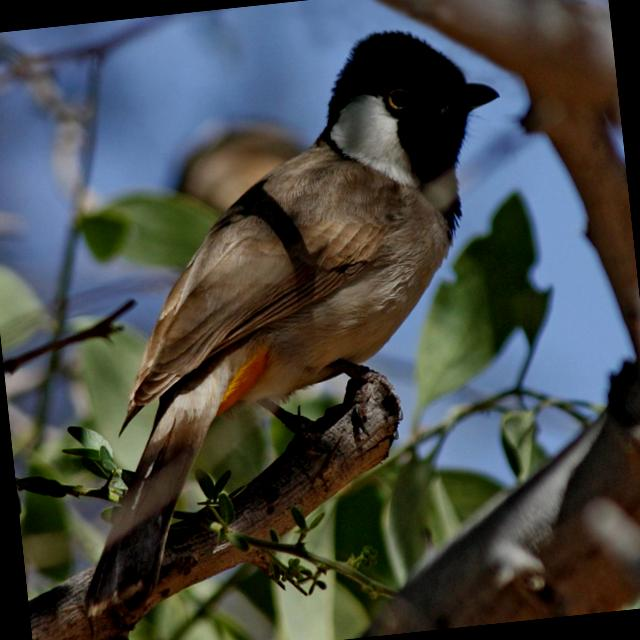bird: (12, 11, 554, 634)
